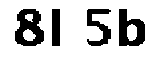5: (79, 5, 116, 50)
8: (12, 6, 46, 52)
I: (48, 4, 71, 56)
b: (117, 2, 151, 49)
